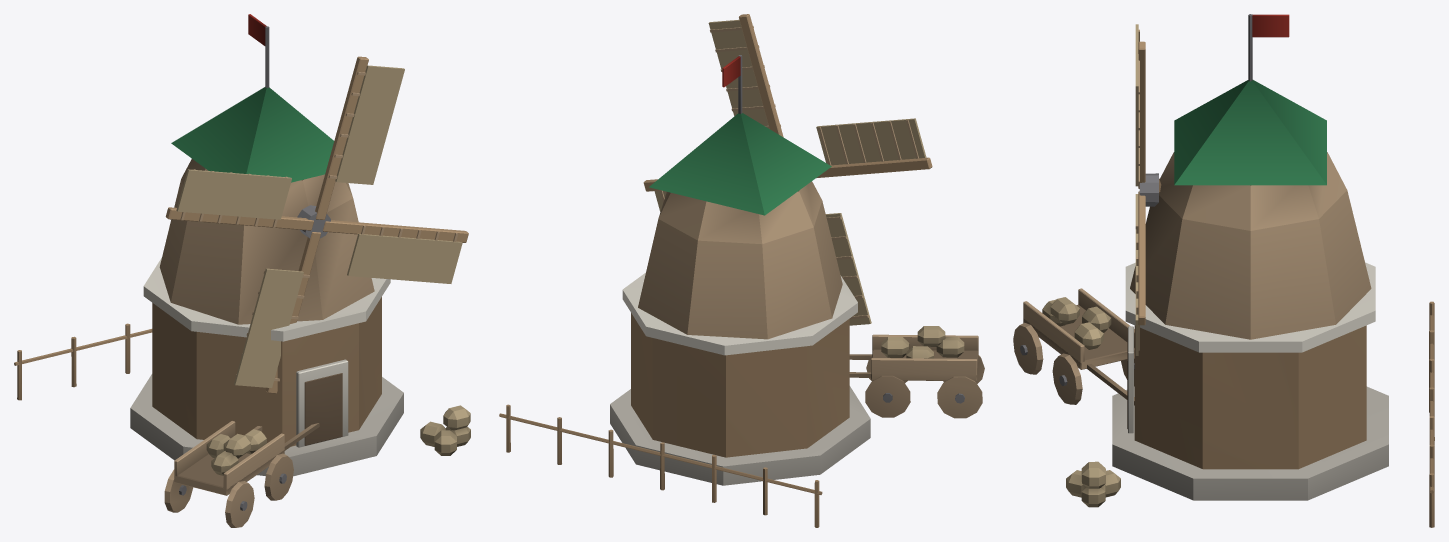
Rendered from bld_melnica_e2.glb.
The picture shows the model from 3 angles, left to right: view 1: azimuth 30°, elevation 25°; view 2: azimuth 150°, elevation 25°; view 3: azimuth 270°, elevation 25°; orthographic projection. The views are drawn at different scales.
Parts seen in each view (by area): view 1: melnica, melnica_kryla; view 2: melnica, melnica_kryla; view 3: melnica, melnica_kryla.
Boxes of the visible parts, bbox=[...] form: melnica: bbox=[14, 14, 470, 527]; melnica_kryla: bbox=[165, 56, 468, 393]; melnica: bbox=[499, 55, 984, 527]; melnica_kryla: bbox=[643, 14, 932, 325]; melnica: bbox=[1013, 14, 1434, 527]; melnica_kryla: bbox=[1135, 24, 1158, 355].
Size of the model in its own units: 1.8 by 1.95 by 1.74.
